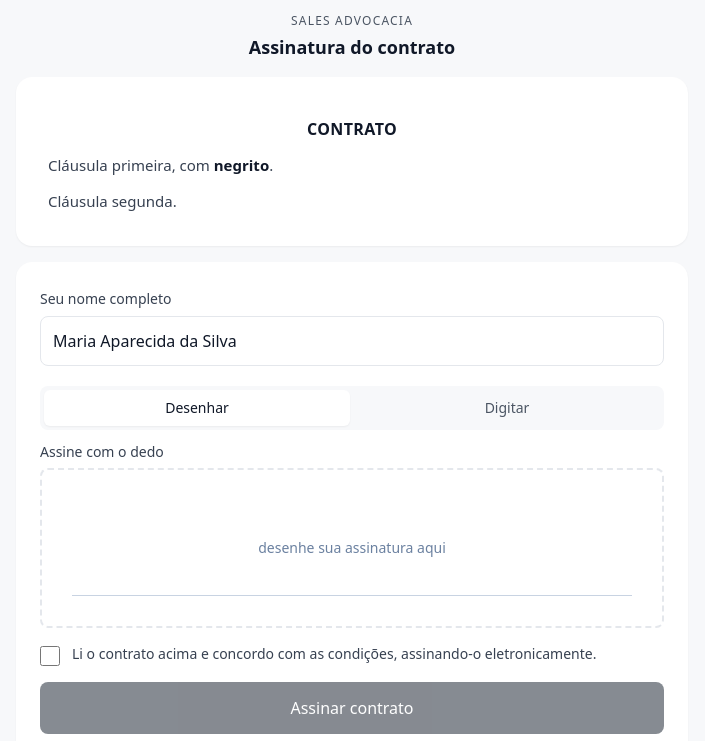
Test: página de assinatura › assina e mostra a confirmação com data e nome
The width and height of the screenshot is (705, 741).
(page scrolled)
Expected: the text "Cláusula primeira, com" is shown, [48, 155, 214, 175]
Click the checkbox.
click(50, 656)  # box [40, 646, 60, 666]
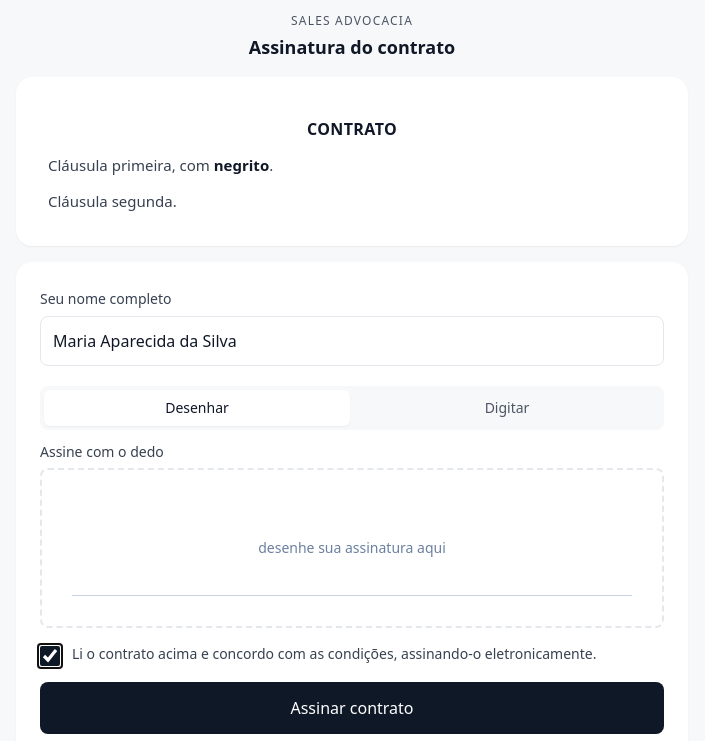
Click the button "Assinar contrato".
click(352, 708)  # box [40, 682, 664, 734]
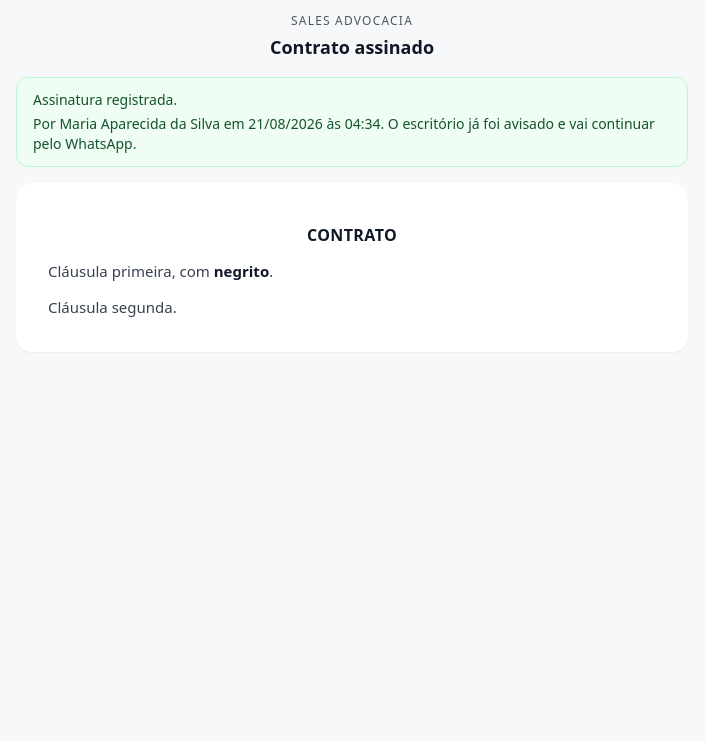
Expected: the text "Assinatura registrada." is shown, [33, 90, 177, 109]
Expected: the button "Assinar contrato" is gone
